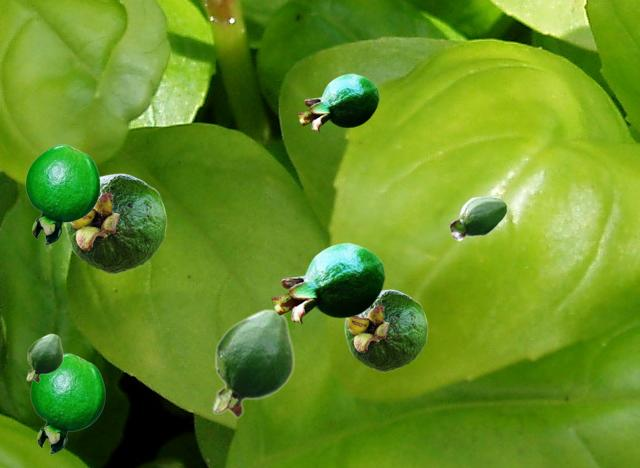guava: (64, 173, 166, 273), (271, 242, 384, 323), (212, 308, 293, 418), (30, 353, 104, 453), (25, 144, 99, 244), (344, 289, 427, 371), (297, 73, 378, 131), (449, 196, 507, 240), (26, 333, 62, 382)
